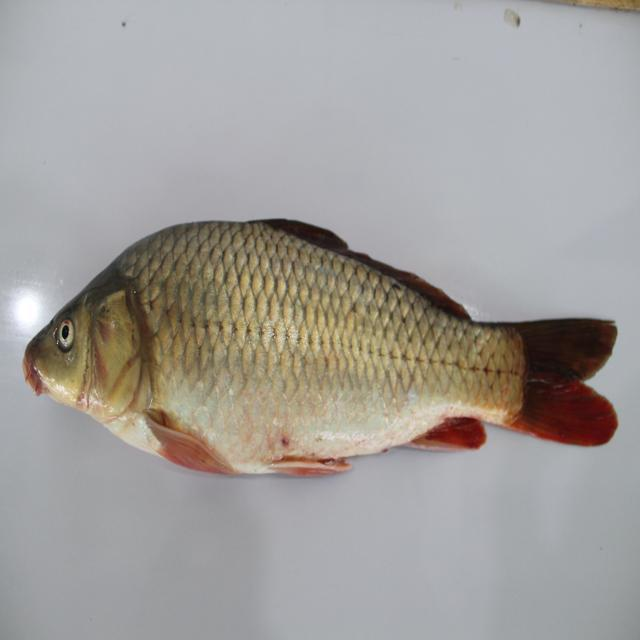CommonCarp: (24, 208, 629, 481)
